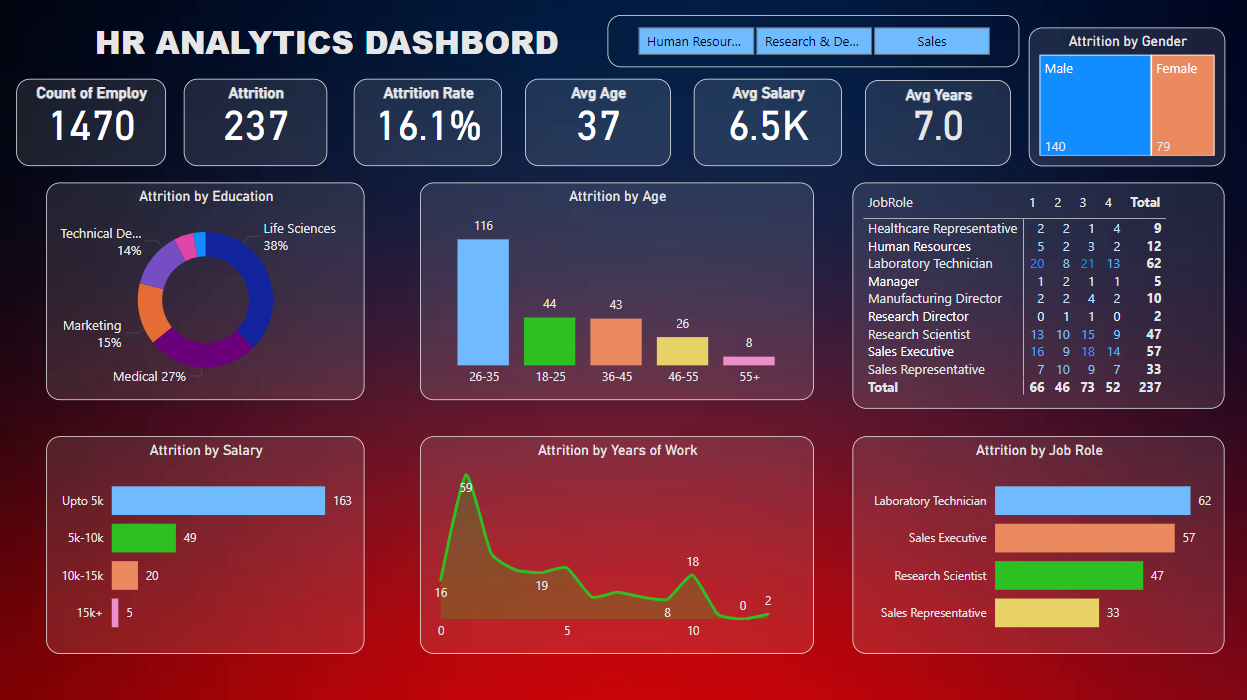

The dashboard page shown, as its layout file describes it:
{"tool":"powerbi","page":{"name":"Page 1","canvas":[1280,720],"ordinal":0},"visuals":[{"type":"card","title":"Count of Employ","fields":{"Values":["Count(HR_Analytics.EmpID)"]},"box":[17.2,81,153.4,89.6],"z":0},{"type":"card","title":"Attrition","fields":{"Values":["Sum(HR_Analytics.AttritionCount)"]},"box":[189,81,147.2,89.6],"z":1000},{"type":"card","title":"Attrition Rate","fields":{"Values":["HR_Analytics.AttritionRate"]},"box":[363.2,81,152.1,89.6],"z":2000},{"type":"card","title":"Avg Age","fields":{"Values":["Avg(HR_Analytics.Age)"]},"box":[538.7,81,149.7,89.6],"z":3000},{"type":"card","title":"Avg Salary","fields":{"Values":["Avg(HR_Analytics.MonthlyIncome)"]},"box":[711.7,81,152.1,89.6],"z":4000},{"type":"card","title":"Avg Years","fields":{"Values":["Avg(HR_Analytics.YearsAtCompany)"]},"box":[887.1,82.2,149.7,88.3],"z":5000},{"type":"donutChart","title":"Attrition by Education","fields":{"Category":["HR_Analytics.EducationField"],"Y":["Sum(HR_Analytics.AttritionCount)"]},"box":[47.9,187.7,326.4,223.3],"z":6000},{"type":"columnChart","title":"Attrition by Age","fields":{"Category":["HR_Analytics.AgeGroup"],"Y":["Sum(HR_Analytics.AttritionCount)"]},"box":[430.7,187.7,403.7,223.3],"z":6001},{"type":"pivotTable","fields":{"Rows":["HR_Analytics.JobRole"],"Columns":["HR_Analytics.JobSatisfaction"],"Values":["Sum(HR_Analytics.AttritionCount)"]},"box":[874.9,187.7,381.6,231.9],"z":6002},{"type":"barChart","title":"Attrition by Salary","fields":{"Category":["HR_Analytics.SalarySlab"],"Y":["Sum(HR_Analytics.AttritionCount)"]},"box":[47.9,447.9,326.4,223.3],"z":6003},{"type":"barChart","title":"Attrition by Job Role","fields":{"Category":["HR_Analytics.JobRole"],"Y":["Sum(HR_Analytics.AttritionCount)"]},"box":[874.9,447.9,381.6,223.3],"z":6004},{"type":"areaChart","title":"Attrition by Years of Work","fields":{"Category":["HR_Analytics.YearsAtCompany"],"Y":["Sum(HR_Analytics.AttritionCount)"]},"box":[430.7,447.9,403.7,223.3],"z":6005},{"type":"treemap","title":"Attrition by Gender","fields":{"Group":["HR_Analytics.Gender"],"Values":["Sum(HR_Analytics.AttritionCount)"]},"box":[1055.2,28.2,201.2,142.3],"z":6006},{"type":"slicer","fields":{"Values":["HR_Analytics.Department"]},"box":[623.3,16,422.1,54],"z":6007},{"type":"textbox","box":[17.2,16,636.8,65],"z":6009}]}

Visuals, with their boxes in screenshot pixels (x1, y1, x2, y2), scaled from the page's 1280x720 canvas onto the 1247x700 screenshot:
"Count of Employ" card: select_region(17, 79, 166, 166)
"Attrition" card: select_region(184, 79, 328, 166)
"Attrition Rate" card: select_region(354, 79, 502, 166)
"Avg Age" card: select_region(525, 79, 671, 166)
"Avg Salary" card: select_region(693, 79, 842, 166)
"Avg Years" card: select_region(864, 80, 1010, 166)
"Attrition by Education" donutChart: select_region(47, 182, 365, 400)
"Attrition by Age" columnChart: select_region(420, 182, 813, 400)
pivotTable - HR_Analytics.JobRole x HR_Analytics.JobSatisfaction: select_region(852, 182, 1224, 408)
"Attrition by Salary" barChart: select_region(47, 435, 365, 653)
"Attrition by Job Role" barChart: select_region(852, 435, 1224, 653)
"Attrition by Years of Work" areaChart: select_region(420, 435, 813, 653)
"Attrition by Gender" treemap: select_region(1028, 27, 1224, 166)
slicer - HR_Analytics.Department: select_region(607, 16, 1018, 68)
textbox: select_region(17, 16, 637, 79)
